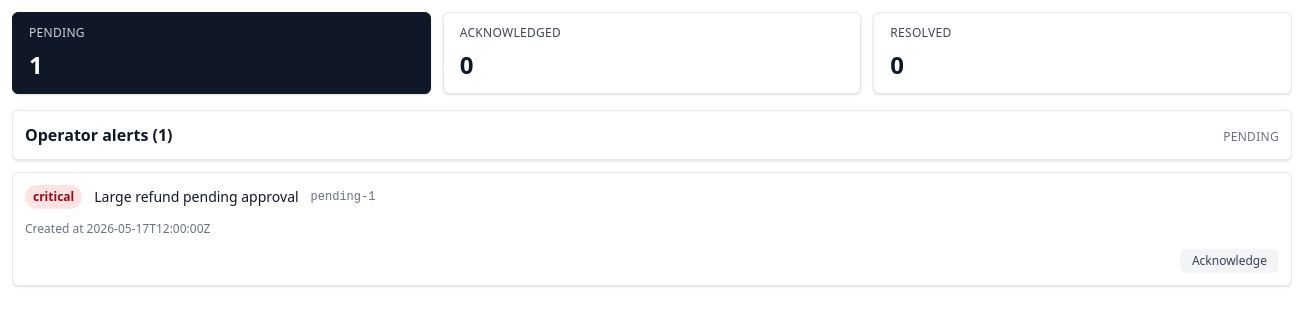
OperatorAlertCentre › keeps the backend mutation outcome visible with transition timestamps instead of dropping the alert
expect the list item with test id "operator-alert-pending-1" is shown: met, box [12,172,1292,286]
Click the button with test id "operator-alert-ack-pending-1": (1229, 261) [1180,249,1279,273]
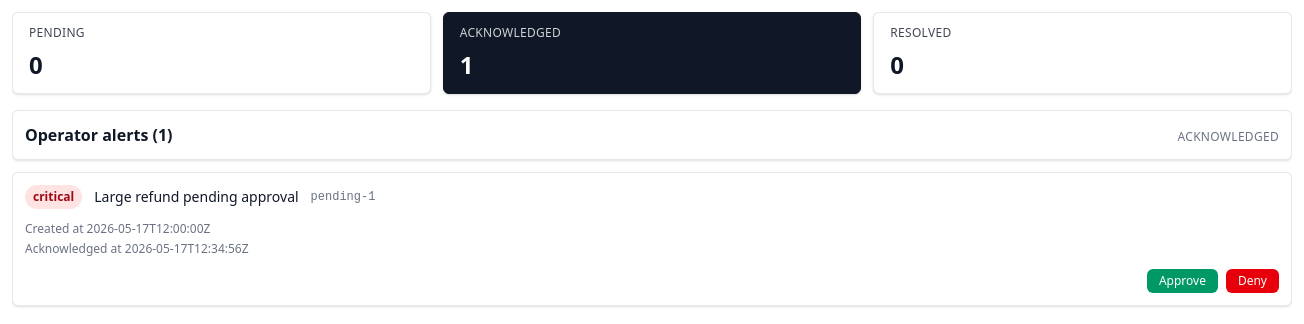
expect the text with test id "operator-alert-summary-acknowledged" reads "1": met, box [460,48,473,81]
expect the text with test id "operator-alert-queue-active" reads "acknowledged": met, box [1178,128,1279,145]
expect the text "2026-05-17T12:34:56Z" is shown: met, box [125,240,249,257]
